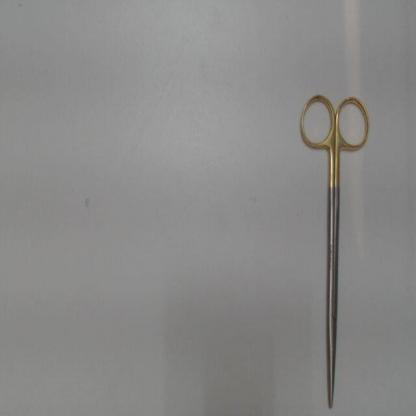7 Metzenbaum Scissors: (298, 90, 372, 409)
